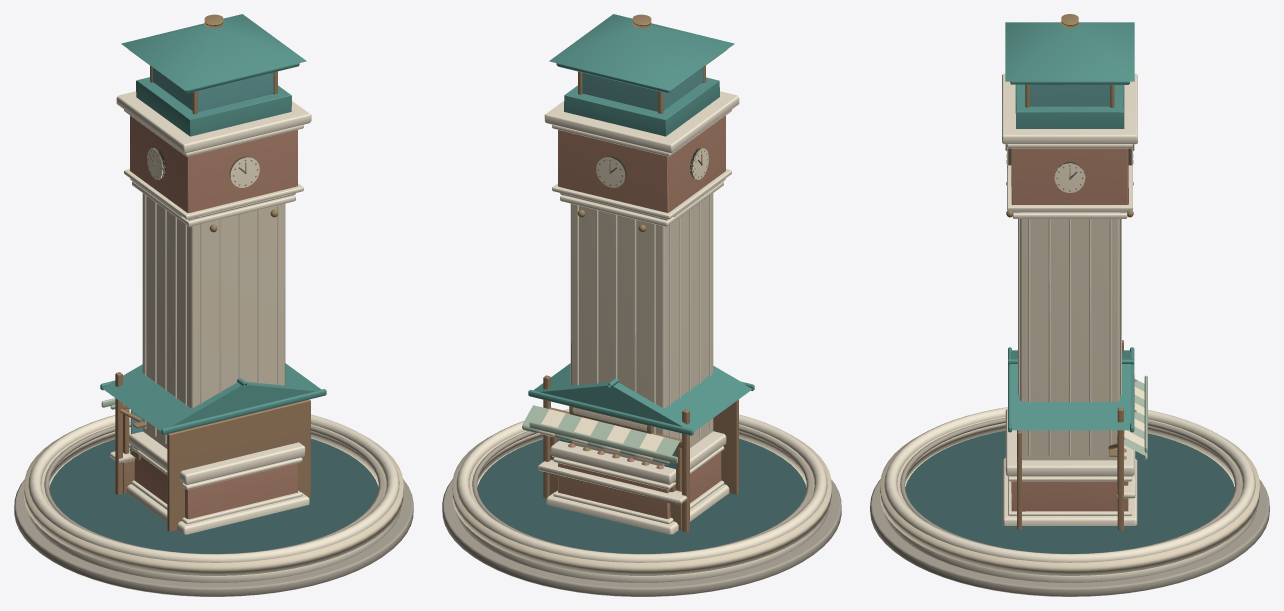
File: civic.glb
The picture shows the model from 3 angles, left to right: view 1: azimuth 30°, elevation 25°; view 2: azimuth 150°, elevation 25°; view 3: azimuth 270°, elevation 25°; orthographic projection.
Visible parts, largest first — view 1: limestone_assembly, light_stone_assembly, ink_assembly, brick_assembly, copper_assembly, light_stone_assembly.001, shadow_stone_assembly.001, wood_assembly, limestone_assembly.001, copper_assembly.001, glass_assembly, cream_assembly (+1 smaller); view 2: limestone_assembly, light_stone_assembly, ink_assembly, copper_assembly, brick_assembly, light_stone_assembly.001, shadow_stone_assembly.001, limestone_assembly.001, copper_assembly.001, wood_assembly, sage_assembly, glass_assembly (+4 smaller); view 3: limestone_assembly, ink_assembly, light_stone_assembly, copper_assembly, light_stone_assembly.001, shadow_stone_assembly.001, brick_assembly, limestone_assembly.001, copper_assembly.001, glass_assembly, wood_assembly, sage_assembly (+2 smaller).
Boxes of the visible parts, x1,y1,x2,y2 form: limestone_assembly: (142, 193, 285, 448); light_stone_assembly: (116, 91, 311, 534); ink_assembly: (49, 438, 378, 553); brick_assembly: (130, 115, 297, 519); copper_assembly: (121, 14, 306, 136); light_stone_assembly.001: (27, 411, 400, 582); shadow_stone_assembly.001: (14, 421, 413, 596); wood_assembly: (115, 372, 310, 531); limestone_assembly.001: (24, 420, 403, 575); copper_assembly.001: (100, 363, 326, 434); glass_assembly: (152, 67, 273, 111); cream_assembly: (147, 148, 259, 187); limestone_assembly: (570, 193, 713, 466); light_stone_assembly: (544, 91, 739, 534); ink_assembly: (477, 438, 806, 553); copper_assembly: (549, 14, 734, 136); brick_assembly: (558, 115, 725, 518); light_stone_assembly.001: (455, 409, 828, 582); shadow_stone_assembly.001: (442, 425, 841, 596); limestone_assembly.001: (452, 424, 831, 575); copper_assembly.001: (528, 363, 754, 435); wood_assembly: (543, 375, 738, 532); sage_assembly: (522, 405, 679, 465); glass_assembly: (582, 67, 703, 111); limestone_assembly: (1019, 219, 1120, 460); ink_assembly: (905, 430, 1234, 553); light_stone_assembly: (1002, 73, 1137, 525); copper_assembly: (1005, 22, 1134, 128); light_stone_assembly.001: (883, 407, 1256, 582); shadow_stone_assembly.001: (870, 417, 1269, 596); brick_assembly: (1011, 148, 1128, 511); limestone_assembly.001: (880, 416, 1259, 575); copper_assembly.001: (1008, 347, 1134, 432); glass_assembly: (1029, 84, 1110, 106); wood_assembly: (1017, 340, 1129, 530); sage_assembly: (1124, 375, 1147, 460).
Bounding box in the file's own units: 7.96 × 10.88 × 7.96.
